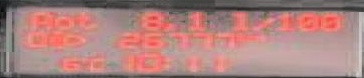-: (160, 20, 177, 29)
0: (134, 52, 161, 72), (293, 11, 318, 32), (318, 11, 339, 32), (22, 29, 47, 46)
1: (185, 9, 204, 30), (275, 11, 294, 32), (182, 52, 199, 71), (212, 53, 226, 72), (123, 52, 134, 72)
2: (117, 30, 136, 48)
6: (139, 30, 163, 48), (58, 55, 79, 70)
7: (212, 30, 234, 48), (190, 30, 212, 48), (169, 32, 185, 48)
8: (136, 9, 161, 29)
X: (28, 9, 52, 29), (74, 10, 98, 29), (229, 9, 248, 30), (250, 15, 274, 29), (52, 14, 71, 29), (87, 55, 104, 70), (245, 33, 264, 42), (161, 54, 169, 68), (234, 32, 245, 41)
